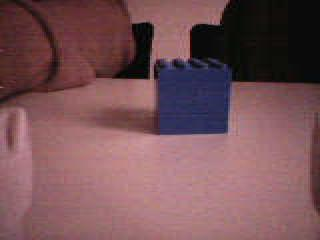legocube: (152, 57, 232, 136)
